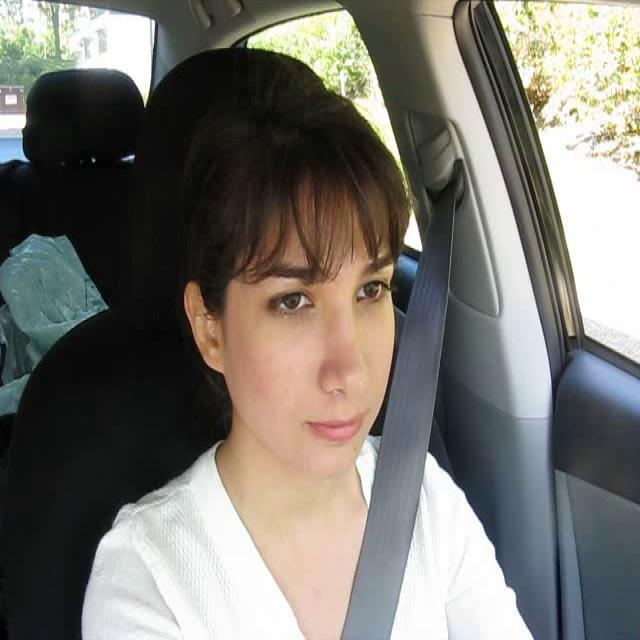close: (300, 411, 371, 444)
